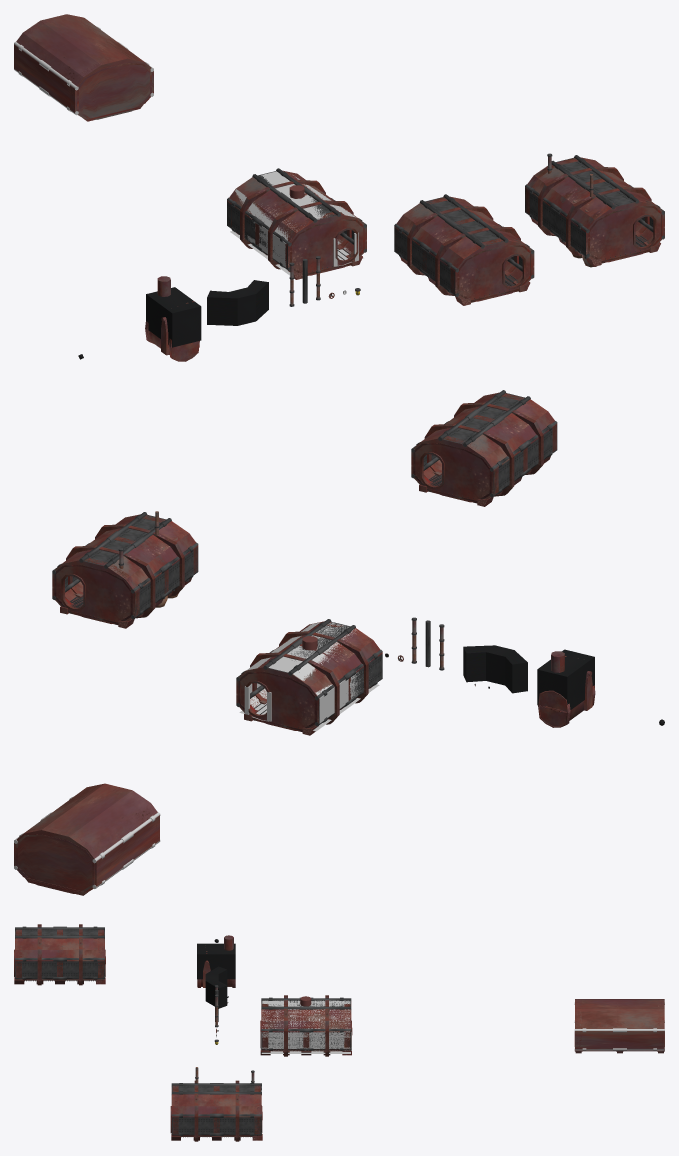
The model's file is Light.obj.
3 renders of one model, top to bottom at view 1: azimuth 30°, elevation 25°; view 2: azimuth 150°, elevation 25°; view 3: azimuth 270°, elevation 25°, orthographic. The views are drawn at different scales.
Parts seen in each view (by area): view 1: Cube.014, Cube.013, Cube, Cube.011, Cube.010, Cube.018, Cube.025, Cube.002; view 2: Cube.014, Cube.013, Cube, Cube.011, Cube.010, Cube.025, Cube.018, Cube.002; view 3: Cube.014, Cube.013, Cube, Cube.011, Cube.010, Cube.018, Cube.025, Cube.002.
Part boxes in pixels (x1,y1,x2,y2): Cube.014: [525, 153, 664, 267]; Cube.013: [394, 194, 534, 305]; Cube: [14, 14, 153, 121]; Cube.011: [227, 168, 366, 279]; Cube.010: [230, 171, 363, 275]; Cube.018: [146, 287, 201, 347]; Cube.025: [207, 280, 268, 325]; Cube.002: [145, 276, 199, 361]; Cube.014: [52, 511, 198, 628]; Cube.013: [411, 390, 557, 506]; Cube: [14, 783, 160, 895]; Cube.011: [236, 619, 382, 735]; Cube.010: [239, 622, 379, 731]; Cube.025: [463, 645, 527, 693]; Cube.018: [537, 649, 594, 709]; Cube.002: [538, 651, 595, 727]; Cube.014: [170, 1067, 262, 1141]; Cube.013: [14, 924, 105, 985]; Cube: [574, 999, 664, 1053]; Cube.011: [260, 995, 352, 1056]; Cube.010: [260, 1000, 351, 1053]; Cube.018: [197, 943, 235, 979]; Cube.025: [205, 966, 227, 1008]; Cube.002: [197, 935, 235, 987].
Bounding box in the file's own units: 42.32 × 12.03 × 58.14.
